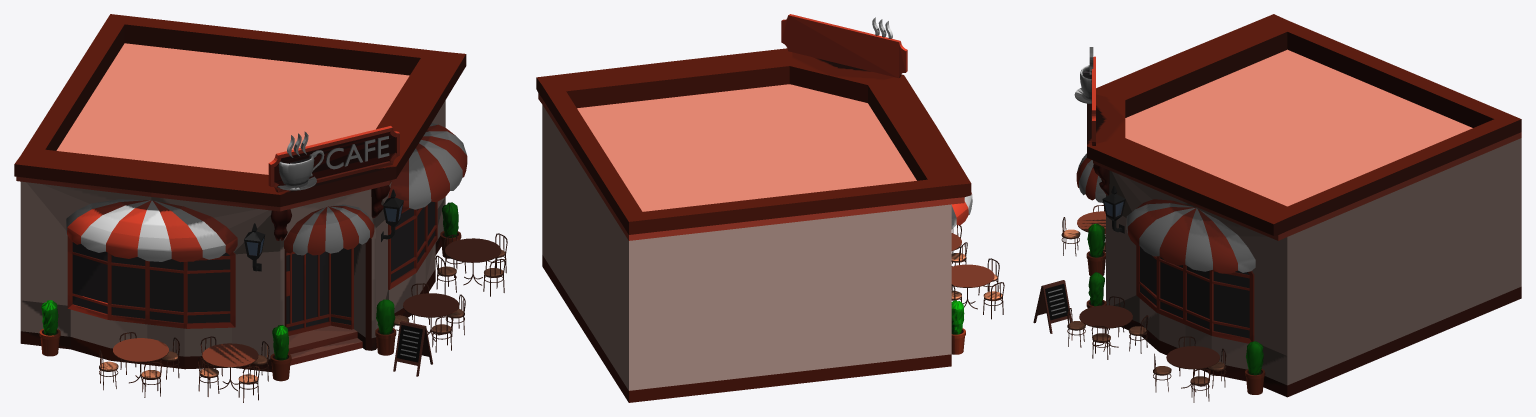
Rendered from cafe-baked.glb.
3 views of the same model, side by side, from view 1: azimuth 30°, elevation 25°; view 2: azimuth 150°, elevation 25°; view 3: azimuth 270°, elevation 25° (orthographic). The views are drawn at different scales.
Parts seen in each view (by area): view 1: CafeBuilding, CafeTables, CafeCafe, CafePlants, CafeBoard; view 2: CafeBuilding, CafeCafe, CafeTables, CafePlants; view 3: CafeBuilding, CafeTables, CafePlants, CafeBoard, CafeCafe.
Part boxes in pixels (x1,y1,x2,y2): CafeBuilding: (14,14,467,371); CafeTables: (99,233,507,402); CafeCafe: (268,126,399,192); CafePlants: (39,202,461,381); CafeBoard: (393,320,432,376); CafeBuilding: (536,48,972,402); CafeCafe: (781,14,907,78); CafeTables: (951,225,1004,319); CafePlants: (951,300,965,354); CafeBuilding: (1076,14,1521,397); CafeTables: (1061,205,1226,402); CafePlants: (1086,223,1265,394); CafeBoard: (1033,280,1071,333); CafeCafe: (1074,47,1095,145).
Size of what is drawn, in the model's own units: 6.01 by 3.08 by 5.9.
5 materials, 5 textured.
